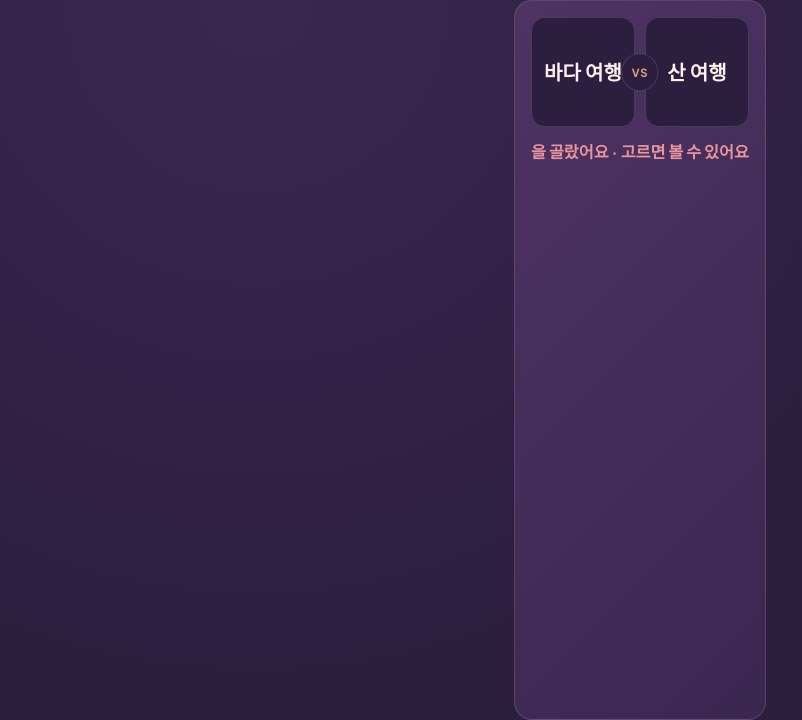
Test: BalanceGame › says so when the pick could not be saved, and lets me try again
Click the button "바다 여행" at point(583, 72), box top-left (531, 17), bottom-right (635, 127)
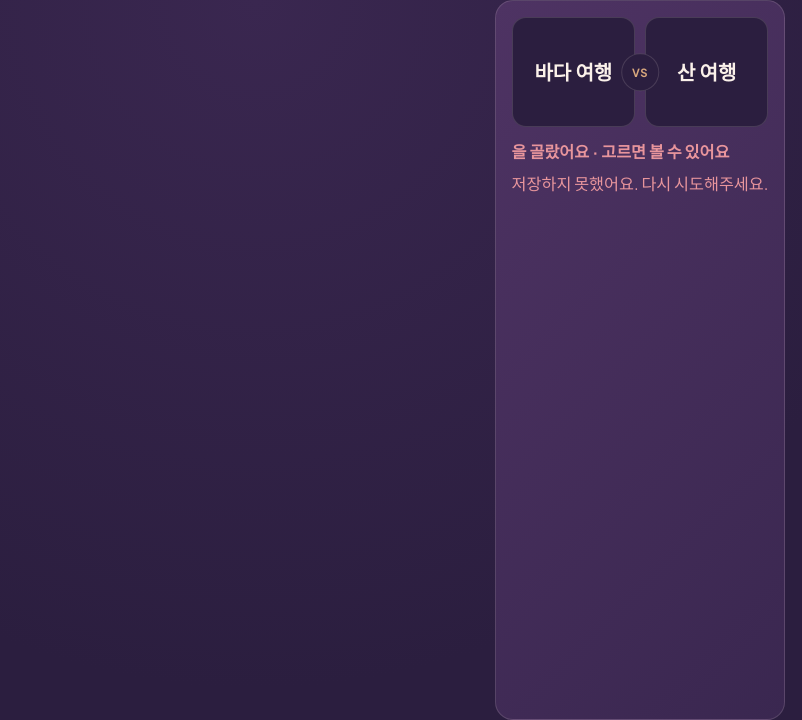
Check: the button "바다 여행" is enabled, box top-left (512, 17), bottom-right (635, 127)
Check: the text "저장하지 못했어요. 다시 시도해주세요." is shown, box top-left (512, 171), bottom-right (768, 195)
